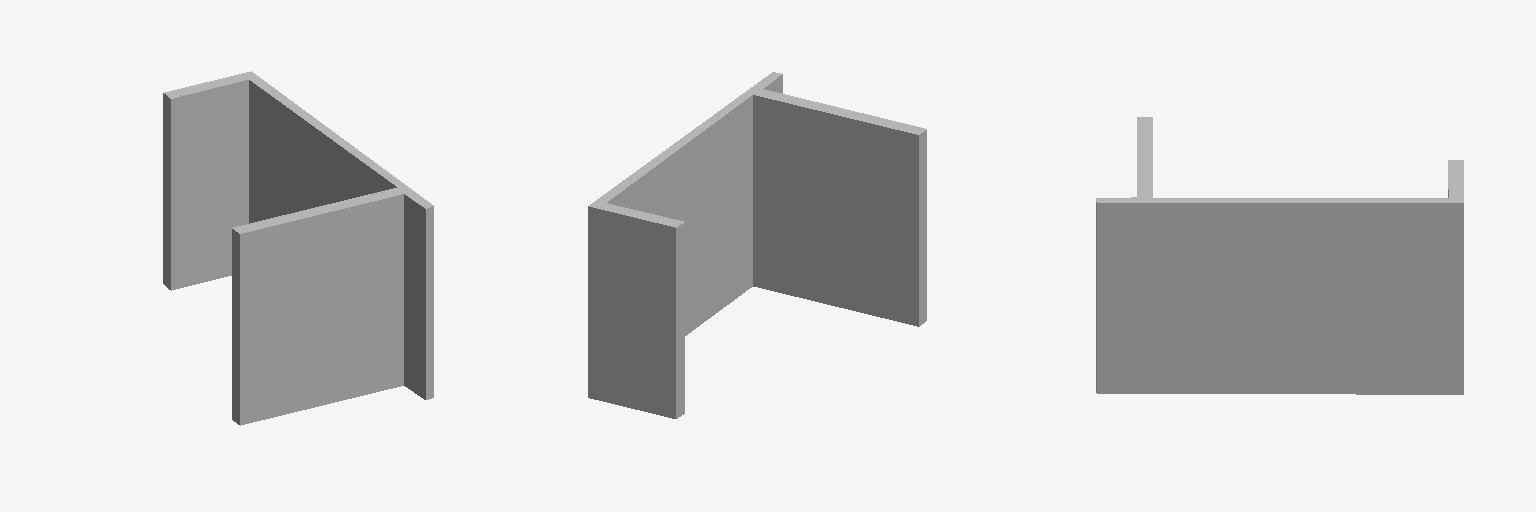
Rendered from bright_107-108.obj.
3 views of the same model, side by side, from view 1: azimuth 30°, elevation 25°; view 2: azimuth 150°, elevation 25°; view 3: azimuth 270°, elevation 25° (orthographic).
Parts seen in each view (by area): view 1: polySurface16; view 2: polySurface16; view 3: polySurface16.
Boxes of the visible parts, <box> form: polySurface16: <box>163,71,433,425</box>; polySurface16: <box>588,72,926,418</box>; polySurface16: <box>1096,117,1463,394</box>.
Bounding box in the file's own units: 19.83 × 20.69 × 36.1.